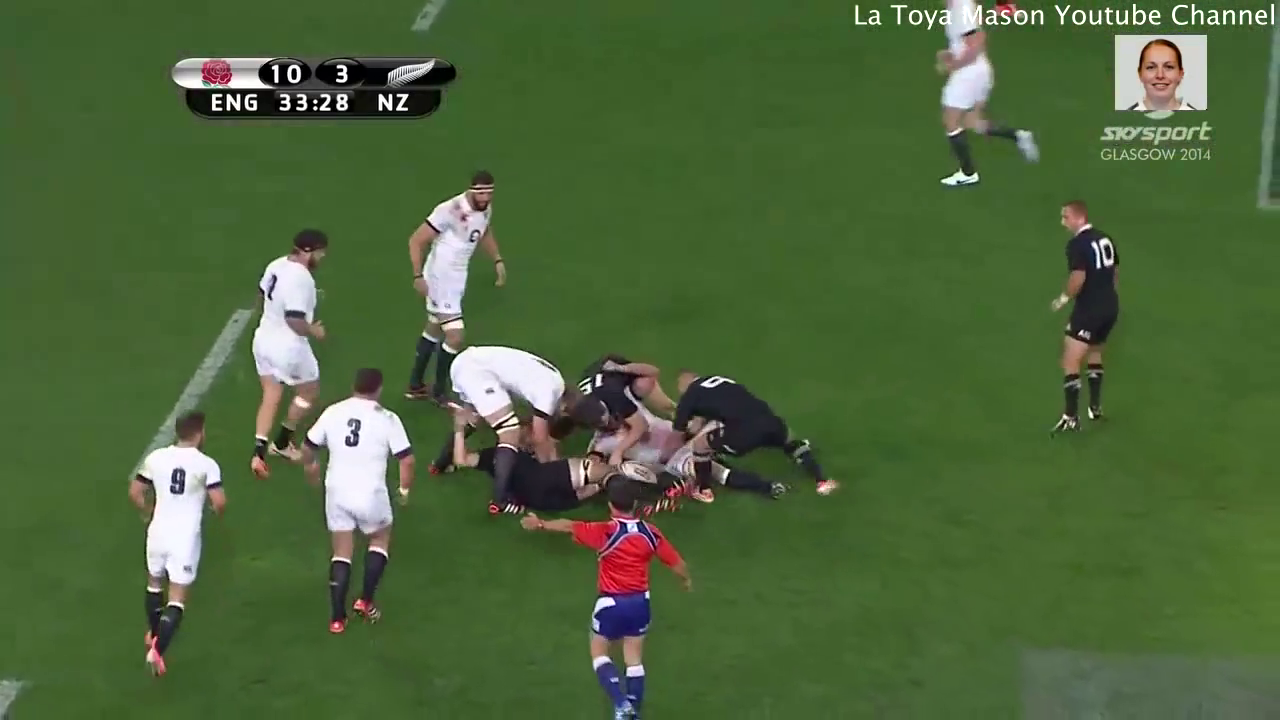ball: (608, 447, 671, 496)
player: (513, 481, 696, 720), (285, 356, 408, 656), (408, 324, 578, 532), (393, 156, 520, 426), (120, 394, 231, 685), (664, 358, 853, 514), (236, 212, 338, 495), (906, 1, 1053, 197), (438, 410, 685, 520), (1030, 184, 1127, 452), (549, 334, 653, 420)
